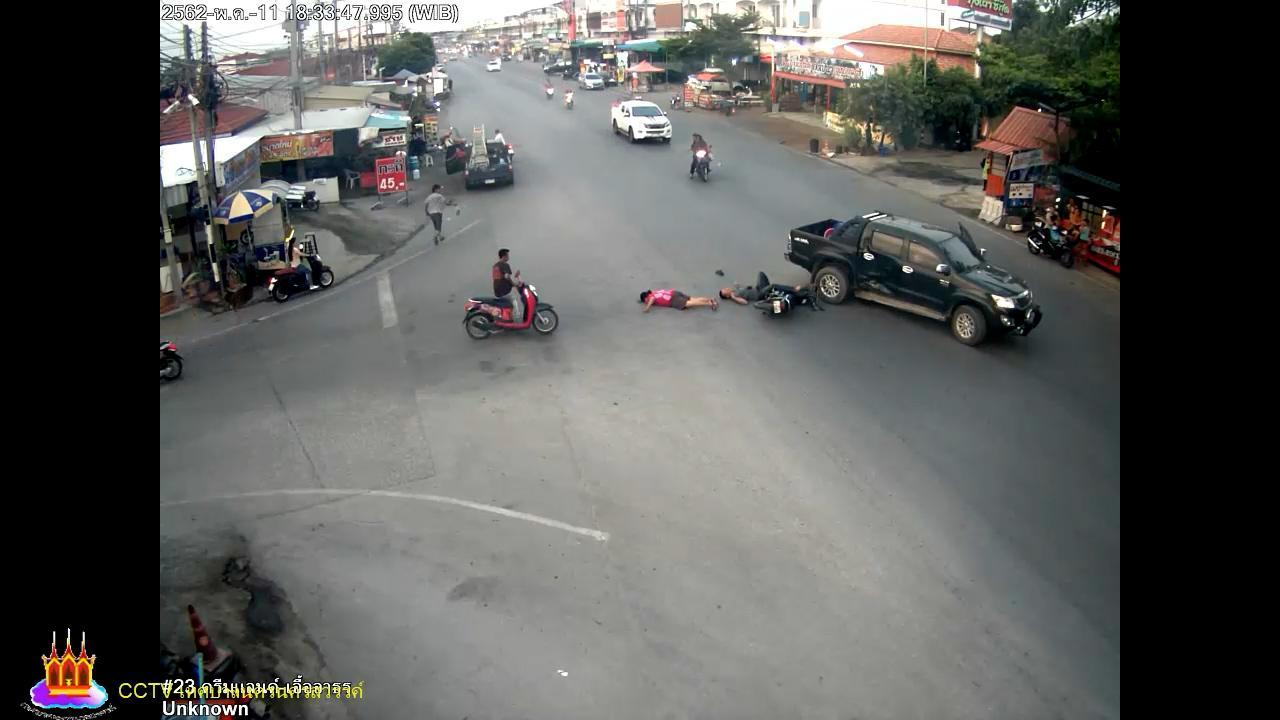accident: (634, 284, 719, 315), (718, 267, 781, 308)
